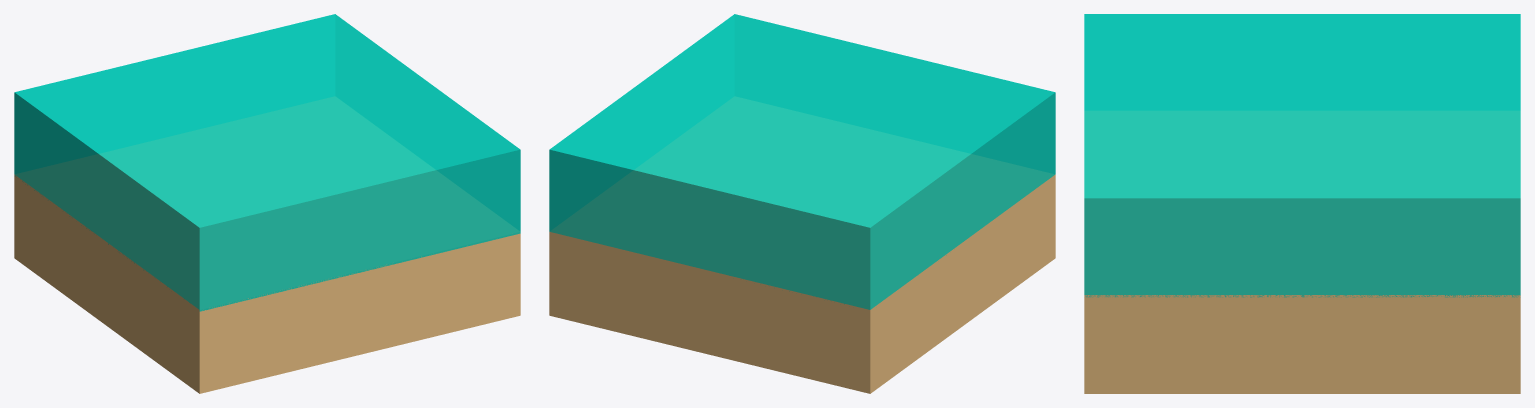
The model's file is IsoWater.fbx.
The picture shows the model from 3 angles, left to right: view 1: azimuth 30°, elevation 25°; view 2: azimuth 150°, elevation 25°; view 3: azimuth 270°, elevation 25°; orthographic projection. The views are drawn at different scales.
Visible parts, largest first — view 1: Cube.001, Cube; view 2: Cube.001, Cube; view 3: Cube.001, Cube.
Boxes of the visible parts, bbox=[...] form: Cube.001: bbox=[14, 14, 520, 311]; Cube: bbox=[14, 174, 520, 393]; Cube.001: bbox=[549, 14, 1055, 309]; Cube: bbox=[549, 174, 1055, 393]; Cube.001: bbox=[1084, 14, 1520, 297]; Cube: bbox=[1084, 295, 1520, 393].
Bounding box in the file's own units: 2 × 0.9894 × 2.
